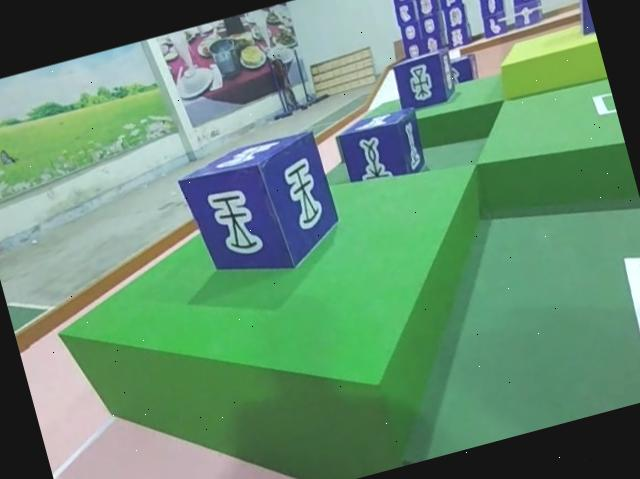R2 Real Blue: (174, 129, 347, 295), (332, 104, 431, 192), (390, 46, 461, 113), (567, 0, 596, 38)
